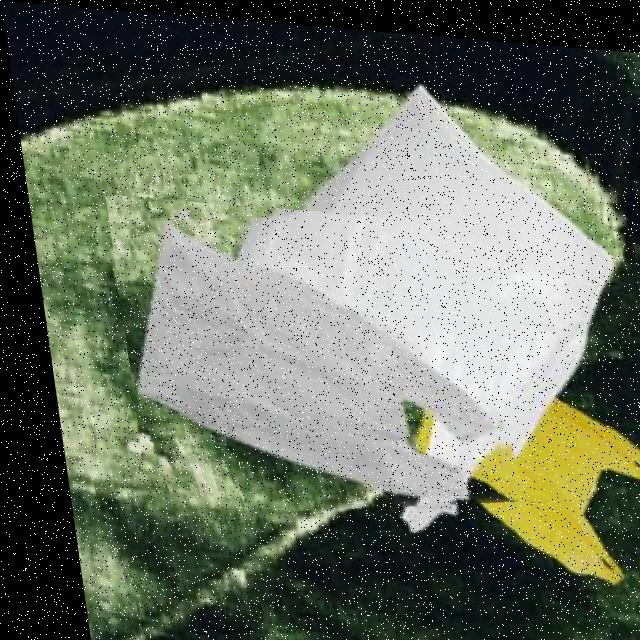litter: (99, 192, 508, 525)
